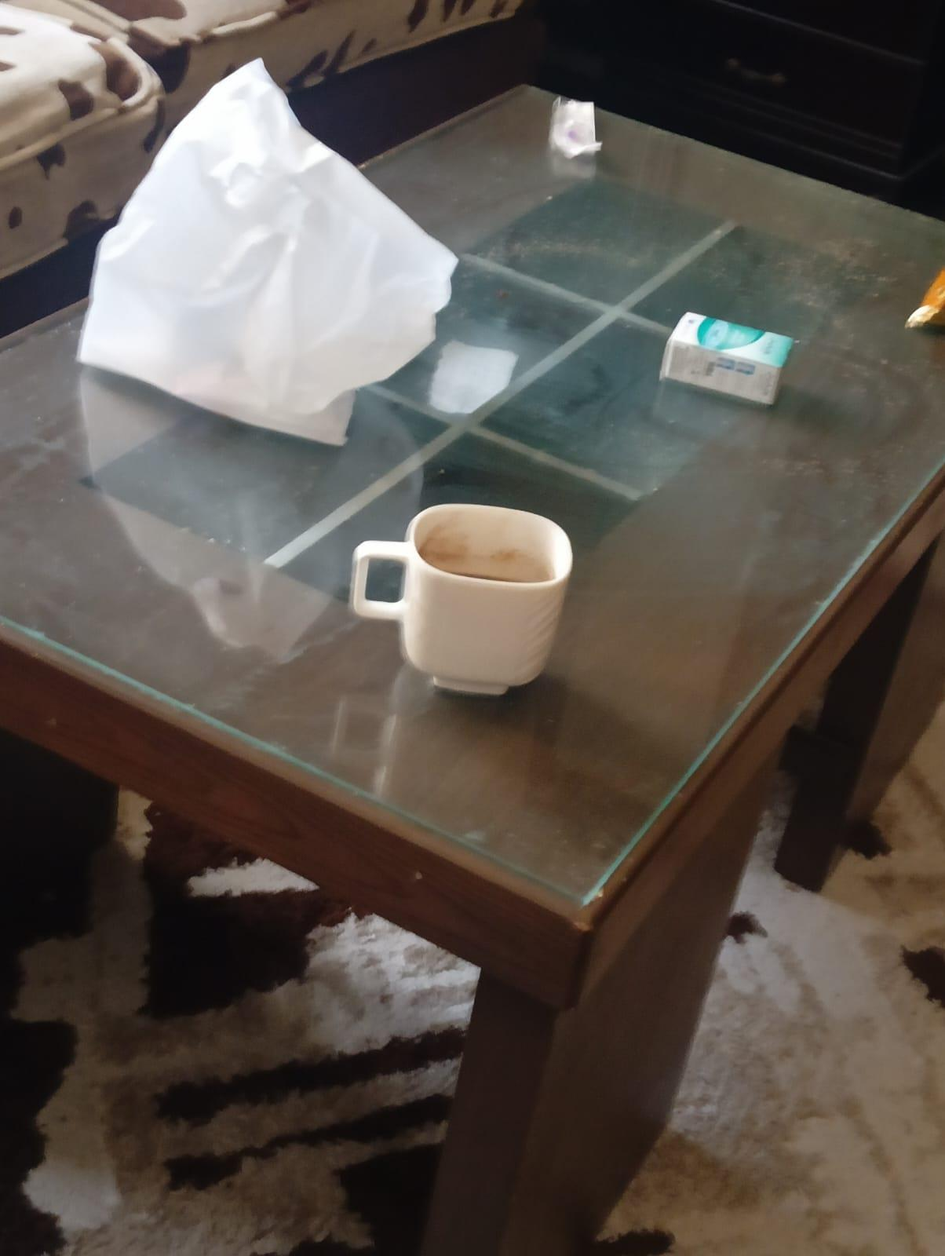cup: (351, 504, 571, 693)
